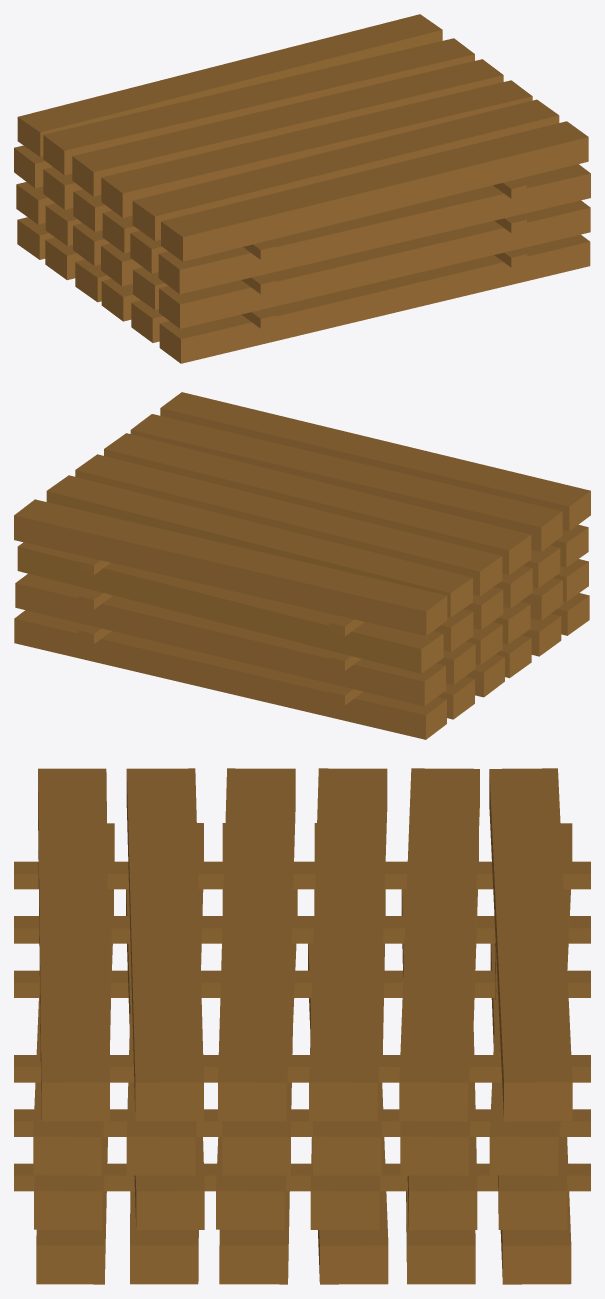
Rendered from SM_TraviesasSueltas_v1_Madera_LOD0.fbx.
3 views of the same model, one above another, from view 1: azimuth 30°, elevation 25°; view 2: azimuth 150°, elevation 25°; view 3: azimuth 270°, elevation 25° (orthographic). The views are drawn at different scales.
Parts seen in each view (by area): view 1: SM_traviesas_sueltas_v1_LOD0; view 2: SM_traviesas_sueltas_v1_LOD0; view 3: SM_traviesas_sueltas_v1_LOD0.
Part boxes in pixels (x1=…): SM_traviesas_sueltas_v1_LOD0: x1=14, y1=14, x2=590, y2=363; SM_traviesas_sueltas_v1_LOD0: x1=14, y1=392, x2=590, y2=739; SM_traviesas_sueltas_v1_LOD0: x1=14, y1=768, x2=590, y2=1284.
Size of the model in its own units: 2.6 by 0.78 by 2.02.
